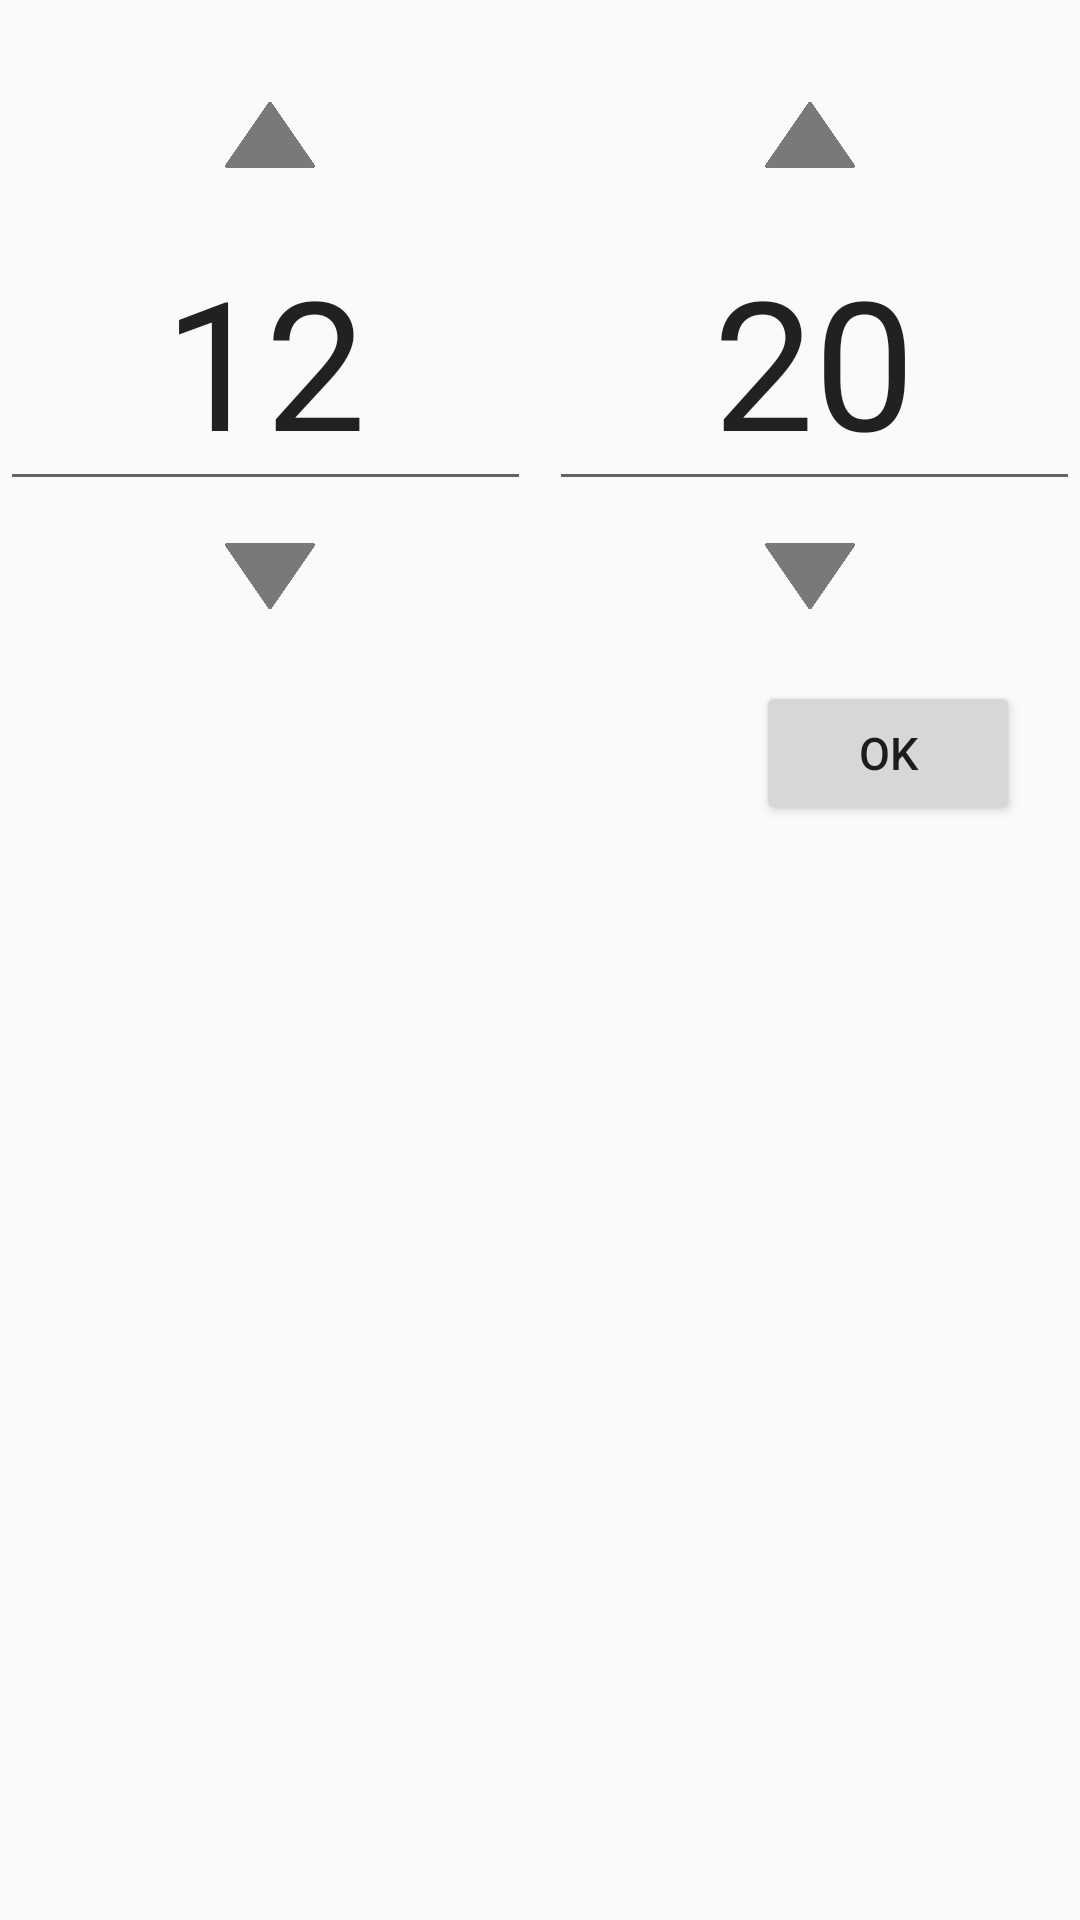

Where icons sit on this 1080 × 1920 app screen, as {"left": x1, "top": y1, "right": x2, "bottom": y2}:
down: {"left": 225, "top": 543, "right": 315, "bottom": 609}, {"left": 765, "top": 543, "right": 855, "bottom": 609}
